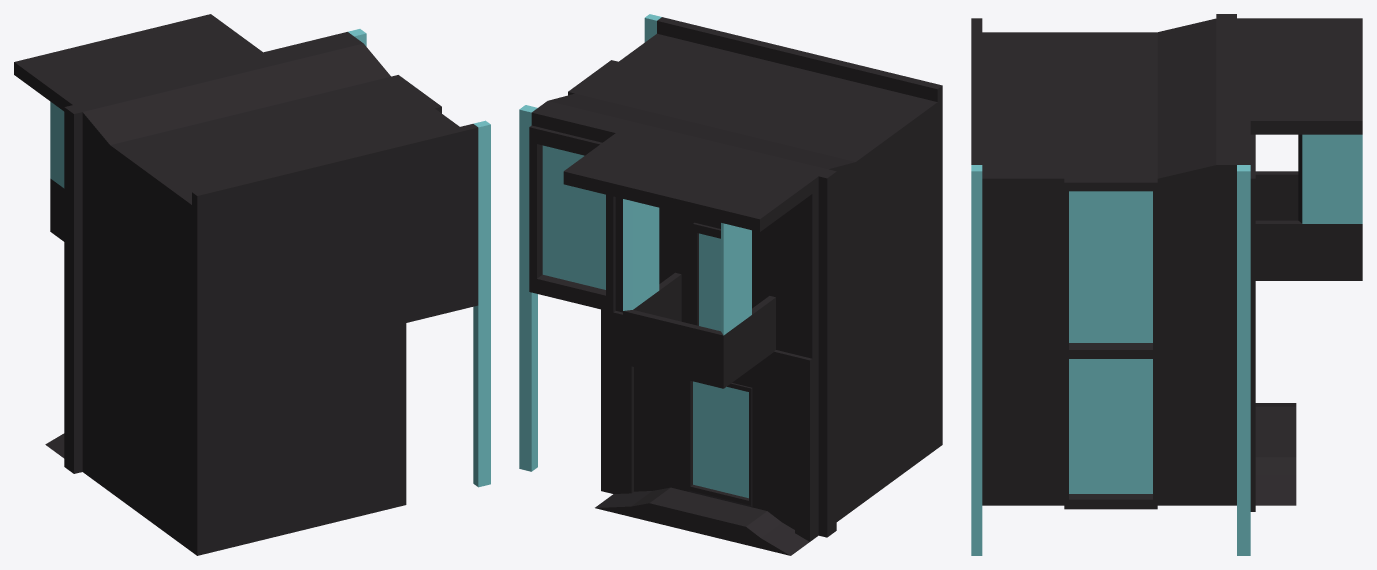
Rendered from Modern_Building1.fbx.
The picture shows the model from 3 angles, left to right: view 1: azimuth 30°, elevation 25°; view 2: azimuth 150°, elevation 25°; view 3: azimuth 270°, elevation 25°; orthographic projection. The views are drawn at different scales.
Parts seen in each view (by area): view 1: Cube; view 2: Cube; view 3: Cube.
Part boxes in pixels (<box>): Cube: <box>14,14,490,555</box>; Cube: <box>519,14,942,555</box>; Cube: <box>971,14,1362,555</box>.
Size of the model in its own units: 598 by 681 by 628.
